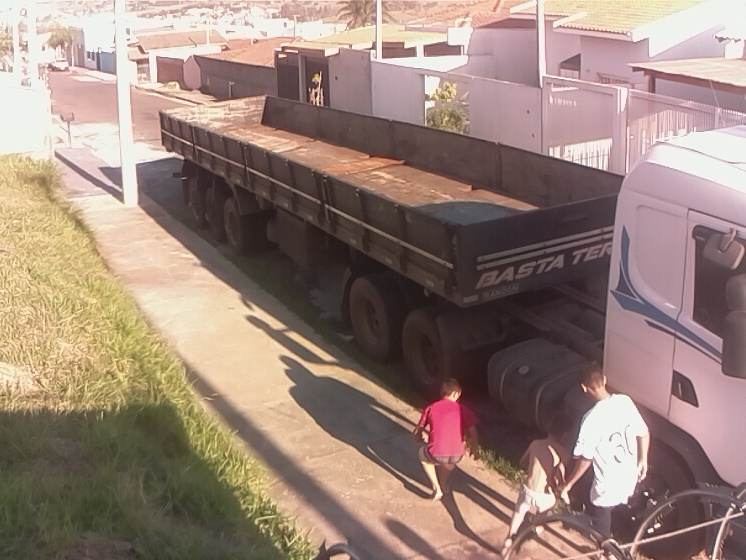person: (556, 359, 653, 560), (499, 409, 576, 560), (412, 375, 484, 504)
